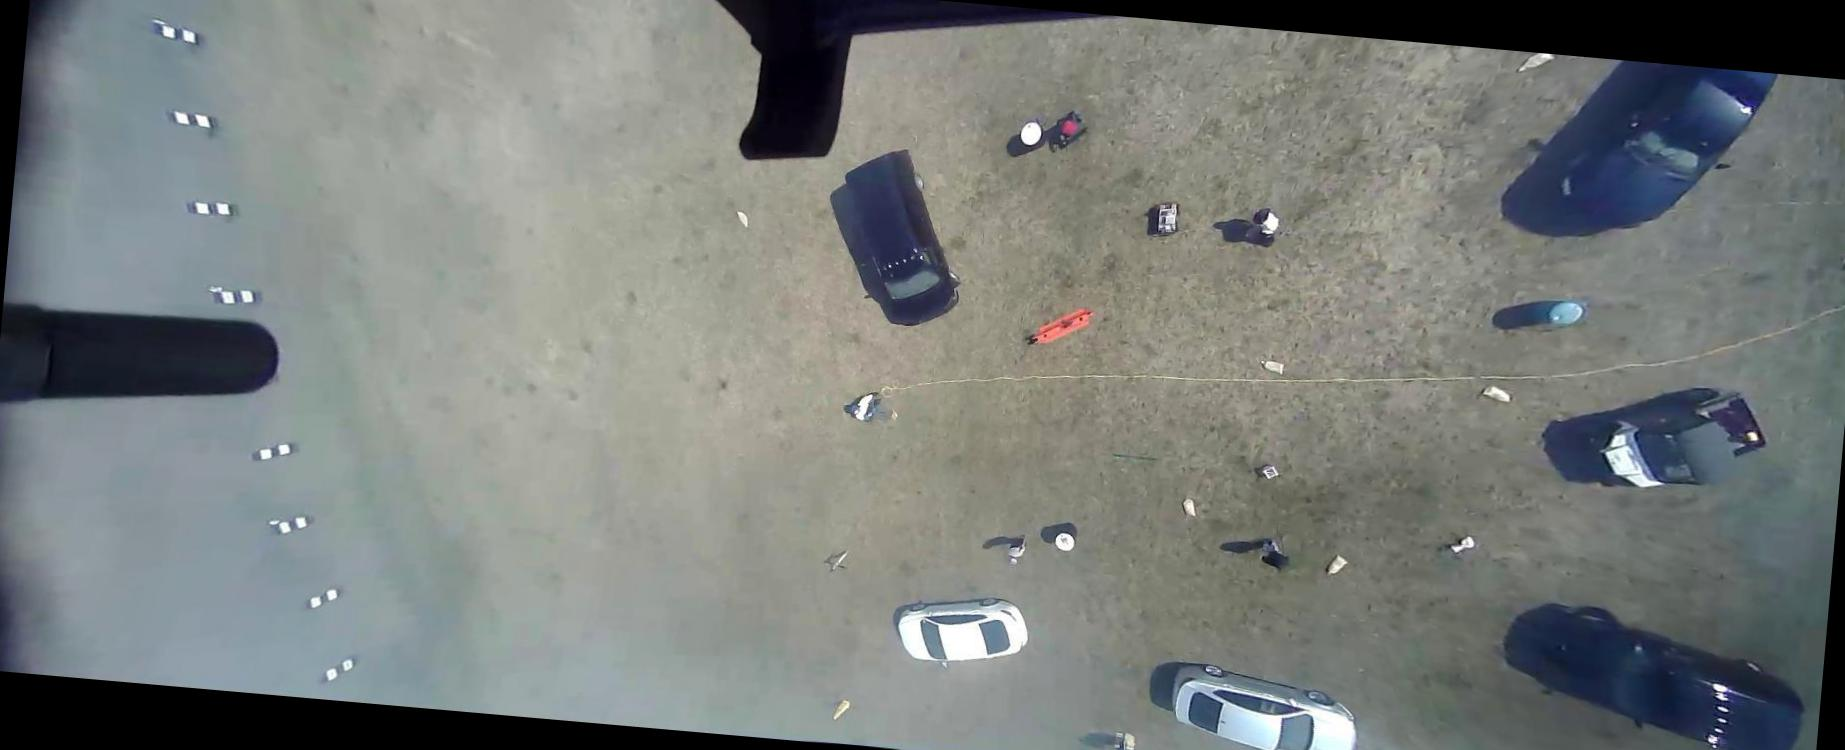vehicle: (1553, 55, 1778, 243), (1552, 611, 1814, 749), (832, 142, 972, 330), (1584, 378, 1772, 500), (1165, 661, 1364, 749), (892, 589, 1032, 675)
